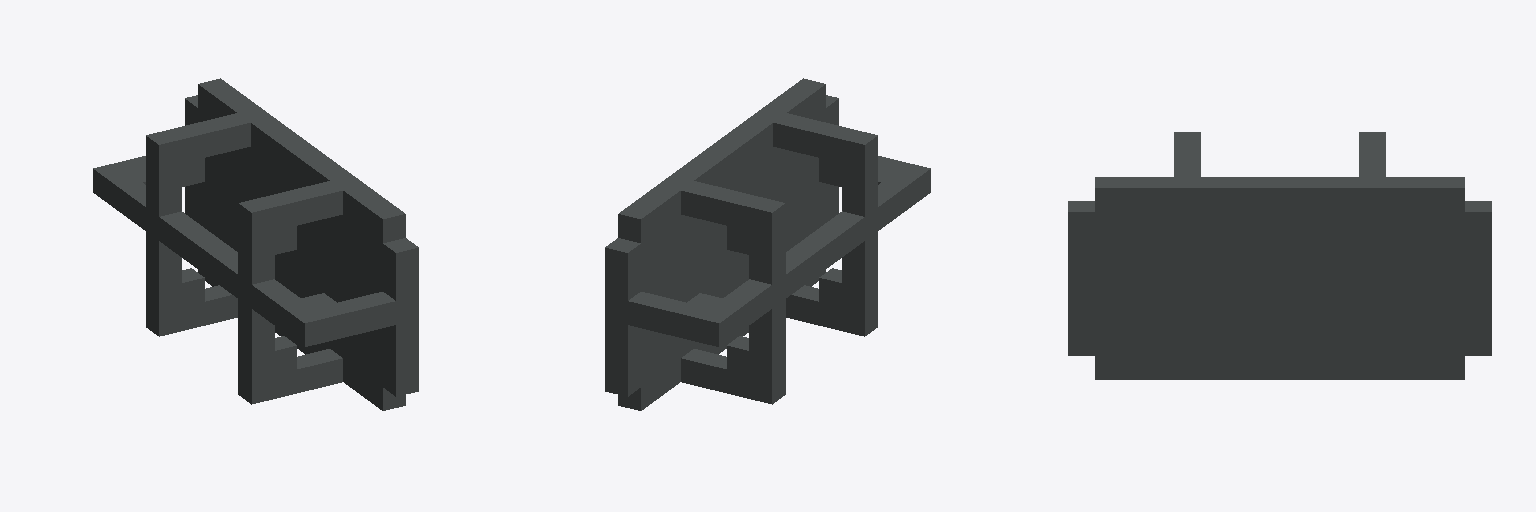
3 renders of one model, left to right at view 1: azimuth 30°, elevation 25°; view 2: azimuth 150°, elevation 25°; view 3: azimuth 270°, elevation 25°, orthographic.
Parts seen in each view (by area): view 1: object 1; view 2: object 1; view 3: object 1.
Boxes of the visible parts, x1,y1,x2,y2 form: object 1: [93, 78, 418, 410]; object 1: [605, 78, 930, 410]; object 1: [1068, 132, 1491, 379].
Bounding box in the file's own units: 0.5 × 0.8 × 1.6.
1 materials, 1 textured.